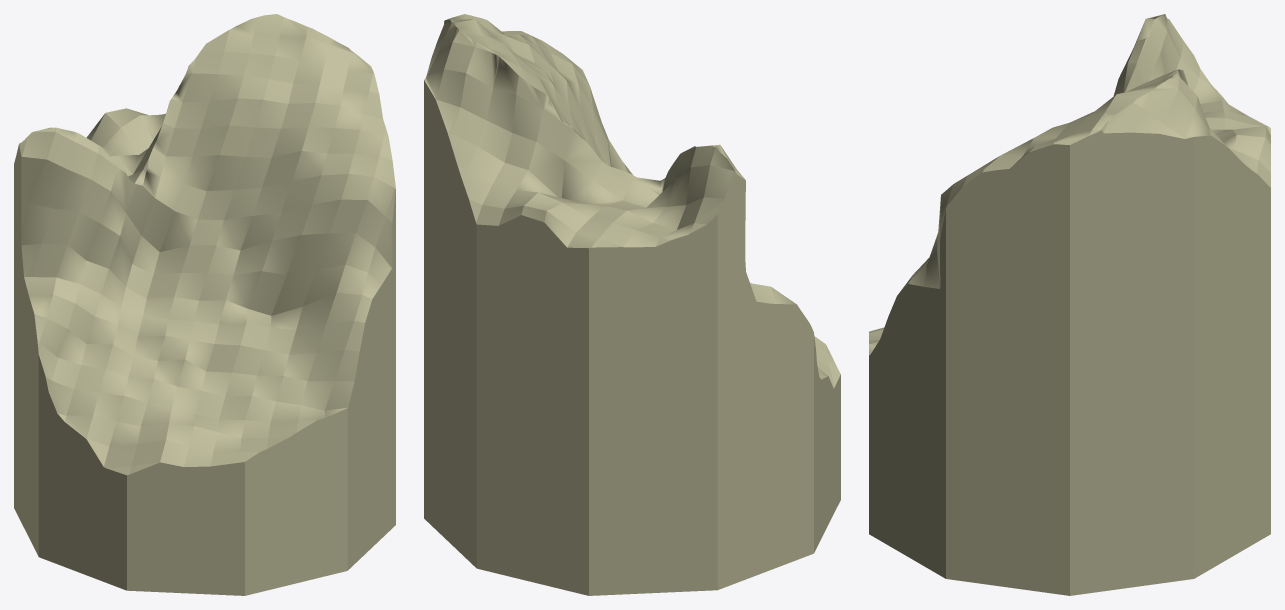
Rendered from M_Column_D21_1.fbx.
3 renders of one model, left to right at view 1: azimuth 30°, elevation 25°; view 2: azimuth 150°, elevation 25°; view 3: azimuth 270°, elevation 25°, orthographic. The views are drawn at different scales.
Parts seen in each view (by area): view 1: M_Column_D21_2; view 2: M_Column_D21_2; view 3: M_Column_D21_2.
Boxes of the visible parts, x1=… form: M_Column_D21_2: x1=14, y1=14, x2=395, y2=595; M_Column_D21_2: x1=424, y1=14, x2=840, y2=595; M_Column_D21_2: x1=869, y1=14, x2=1270, y2=595.
Bounding box in the file's own units: 1.6 × 2.04 × 1.52.
